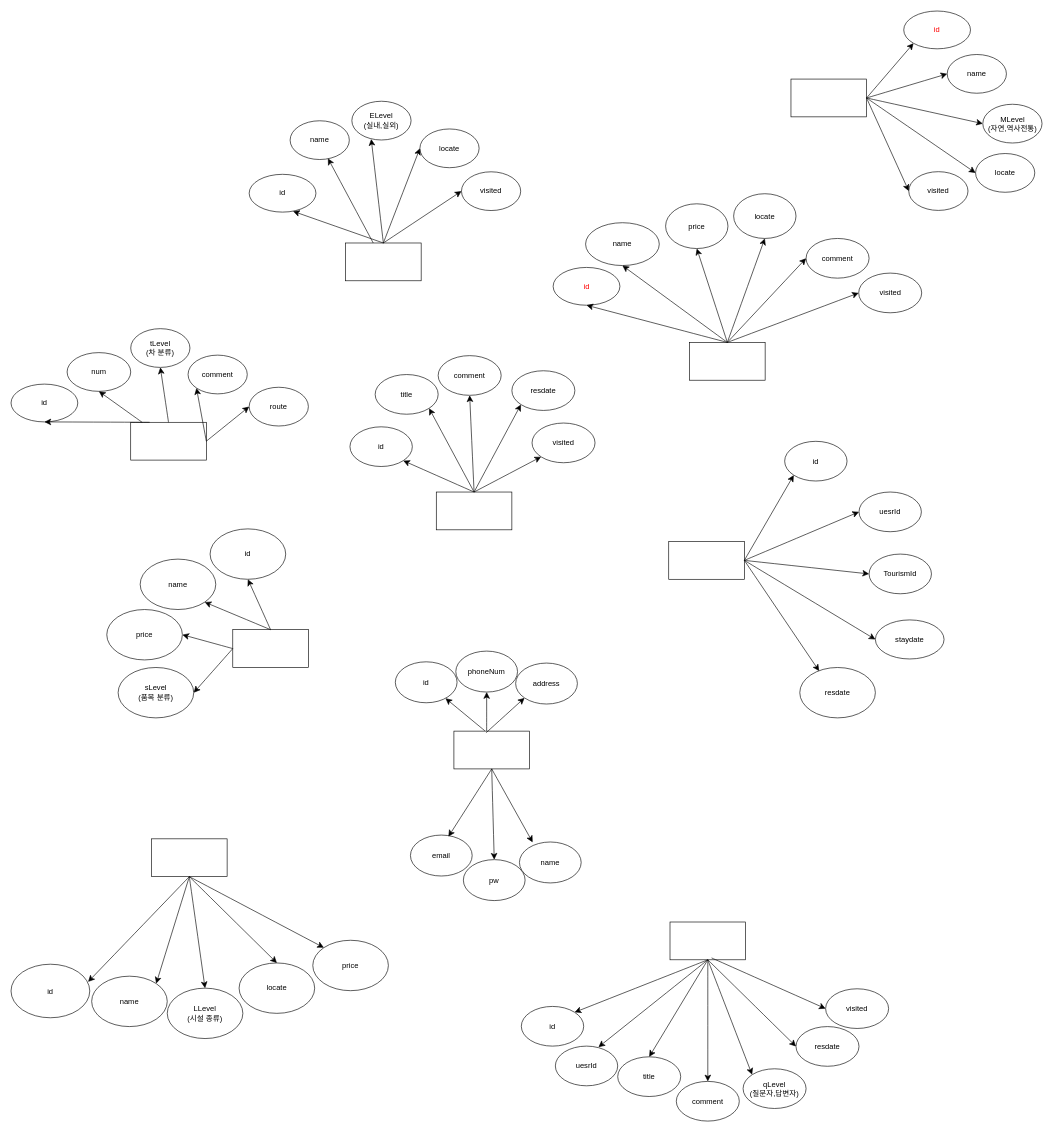
The diagram is 1053 pixels wide and 1132 high, and some of its shapes have lost their labels. Here are the shapes that lost their labels. From the top down, the centre of each, then its label:
[828,97]: MainAttraction ( 주요 명소)
[383,261]: Enjoying (체험할 거리)
[727,361]: Tourism
[168,441]: Traffic
[474,510]: Notice (only manager)
[706,560]: SBought
[270,648]: Shopping
[491,749]: User+(manager)
[189,857]: Lodgment (숙박)
[707,940]: Qna
